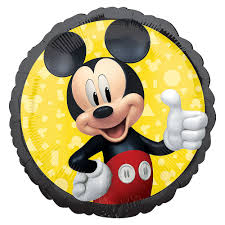mickey: (43, 17, 209, 204)
